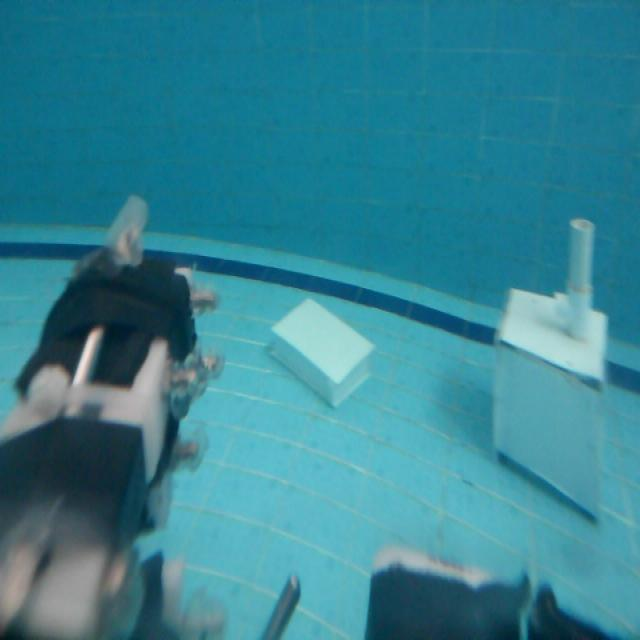Cube: (492, 282, 612, 534)
Cuboid: (266, 293, 376, 408)
